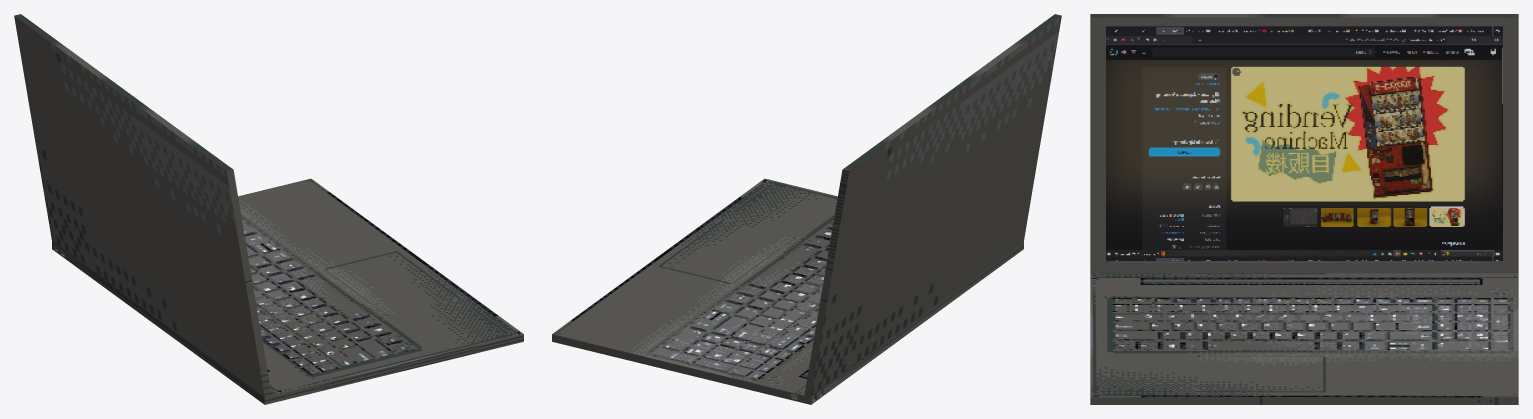
Rendered from psx_-_laptop.glb.
3 renders of one model, left to right at view 1: azimuth 30°, elevation 25°; view 2: azimuth 150°, elevation 25°; view 3: azimuth 270°, elevation 25°, orthographic.
Parts seen in each view (by area): view 1: pCube2; view 2: pCube2; view 3: pCube2.
Part boxes in pixels (left/top/right/bottom): pCube2: left=14, top=14, right=523, bottom=404; pCube2: left=552, top=14, right=1061, bottom=404; pCube2: left=1090, top=14, right=1518, bottom=404.
Size of the model in its own units: 0.0326 by 0.0255 by 0.0404.
Materials: 2 (2 with a texture image).
